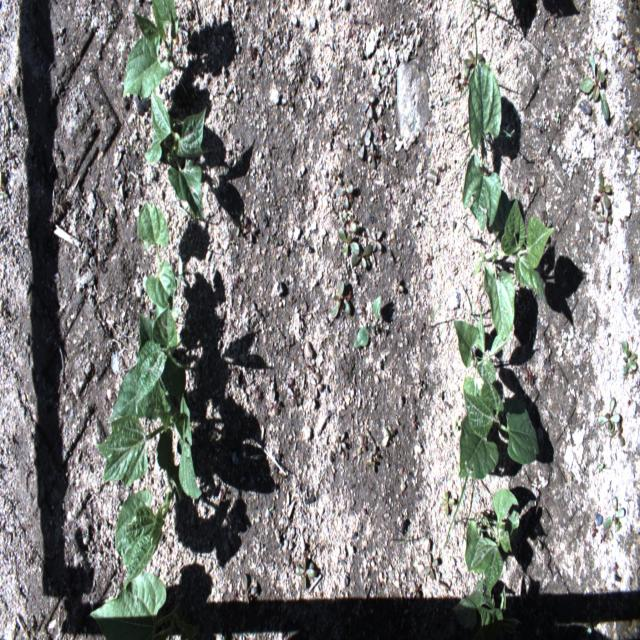crop: (93, 297, 202, 501), (482, 194, 556, 342), (144, 89, 209, 223), (459, 378, 539, 478), (116, 474, 182, 593), (89, 570, 202, 639), (463, 486, 520, 593), (120, 1, 180, 99), (452, 574, 532, 636), (452, 309, 510, 385), (136, 200, 176, 310)
weed: (462, 58, 502, 234), (579, 52, 610, 120), (353, 294, 381, 348), (294, 556, 318, 591), (596, 395, 620, 430), (602, 495, 624, 530), (330, 278, 350, 316), (336, 173, 354, 212), (348, 241, 372, 270), (597, 169, 612, 211), (339, 228, 361, 253), (621, 341, 637, 374), (355, 128, 371, 160), (464, 48, 483, 74), (608, 415, 624, 444), (359, 92, 376, 119), (308, 369, 322, 401), (622, 113, 638, 141), (332, 430, 347, 459), (600, 204, 612, 240), (338, 221, 358, 240), (285, 386, 303, 407), (610, 26, 624, 52), (440, 491, 454, 516), (267, 388, 279, 416), (366, 141, 377, 170), (593, 44, 608, 64), (369, 229, 382, 252), (623, 40, 636, 62), (204, 430, 218, 450), (629, 49, 638, 78), (235, 210, 243, 239), (252, 302, 262, 323), (366, 453, 377, 472), (248, 220, 257, 243), (358, 433, 368, 453), (394, 276, 406, 291), (452, 414, 461, 432), (241, 217, 248, 237), (594, 462, 602, 475), (554, 110, 560, 124)
